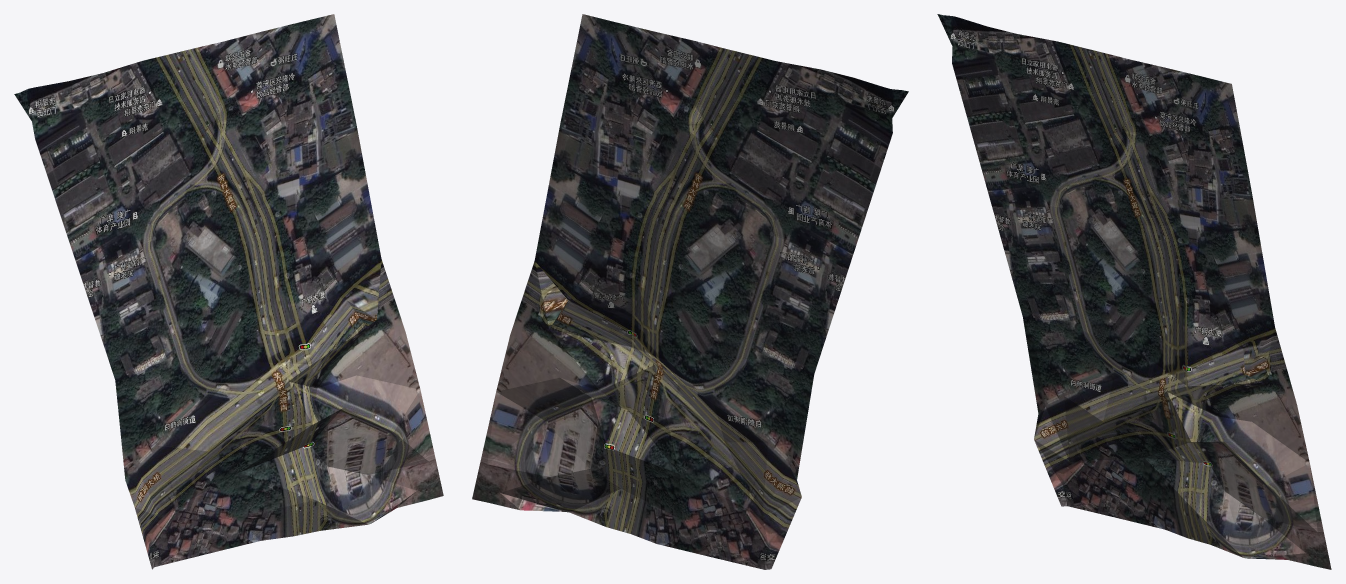
The picture shows the model from 3 angles, left to right: view 1: azimuth 30°, elevation 25°; view 2: azimuth 150°, elevation 25°; view 3: azimuth 330°, elevation 25°; orthographic projection. The views are drawn at different scales.
Parts seen in each view (by area): view 1: 0_3_3_1_1_0; view 2: 0_3_3_1_1_0; view 3: 0_3_3_1_1_0.
Part boxes in pixels (x1,y1,x2,y2): 0_3_3_1_1_0: [14, 14, 443, 569]; 0_3_3_1_1_0: [472, 14, 908, 569]; 0_3_3_1_1_0: [937, 14, 1331, 569].
Bounding box in the file's own units: 432 × 486 × 27.4.
1 material, 1 textured.
